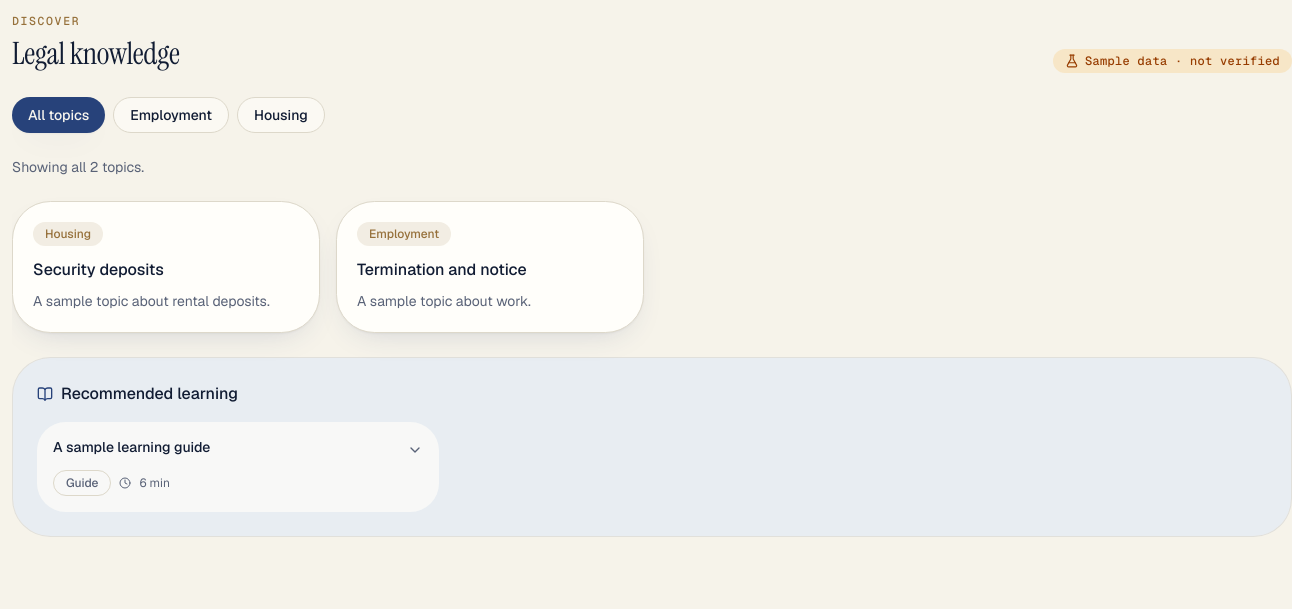
Test case: KnowledgeDiscovery › opens a recommended learning resource with its sample content
Click the text "A sample learning guide" at (132, 448), box [53,438,210,458]
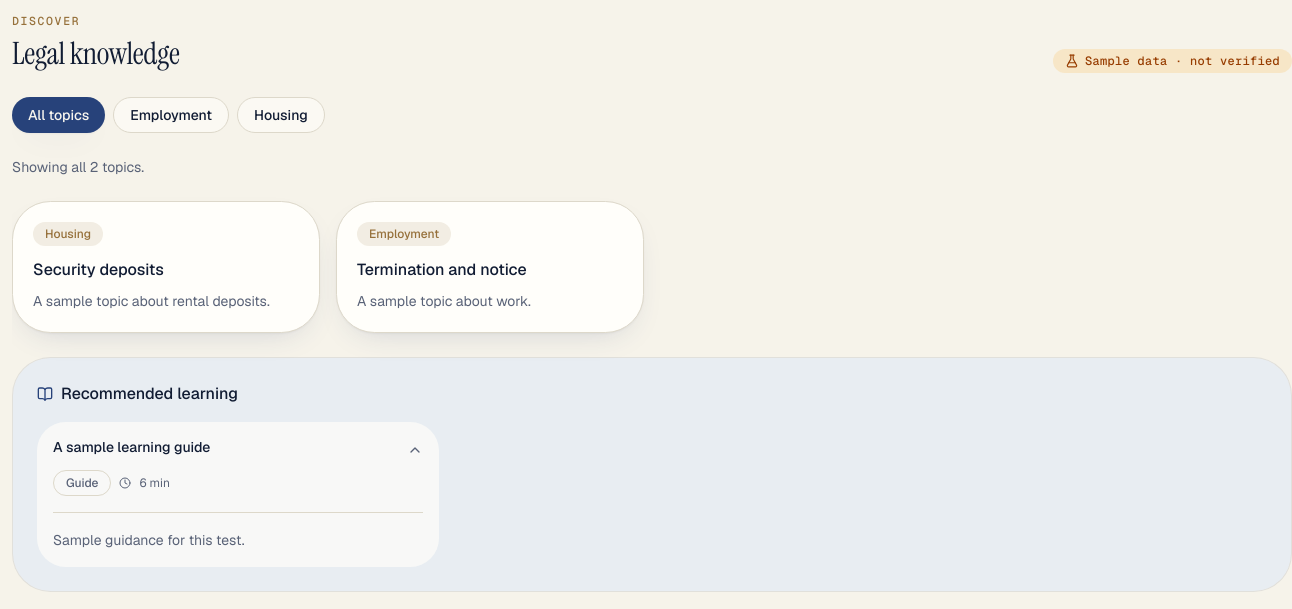
Check: the text "Sample guidance for this test." is shown, box [53,512,423,551]
